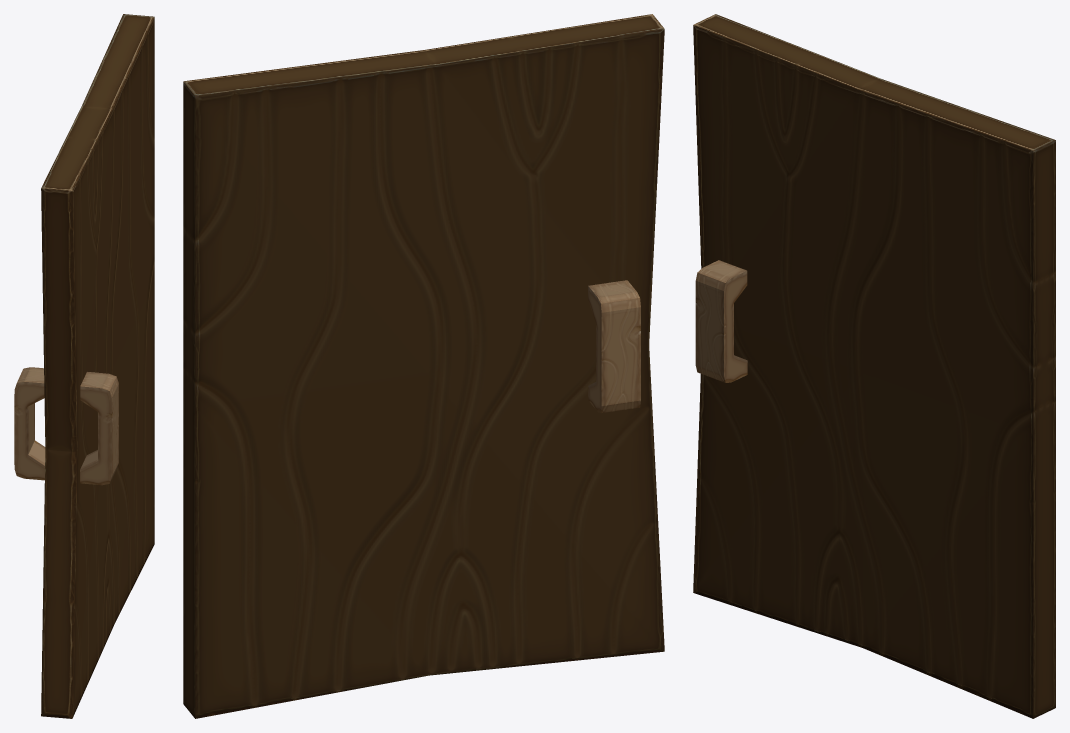
File: DoorForSpawn.fbx
3 views of the same model, side by side, from view 1: azimuth 30°, elevation 25°; view 2: azimuth 150°, elevation 25°; view 3: azimuth 270°, elevation 25° (orthographic). The views are drawn at different scales.
Visible parts, largest first — view 1: Door_LOW; view 2: Door_LOW; view 3: Door_LOW.
Part boxes in pixels (<box>): Door_LOW: <box>14,14,154,718</box>; Door_LOW: <box>183,14,664,718</box>; Door_LOW: <box>693,14,1055,718</box>.
Bounding box in the file's own units: 126 × 240 × 139.
2 materials, 2 textured.
